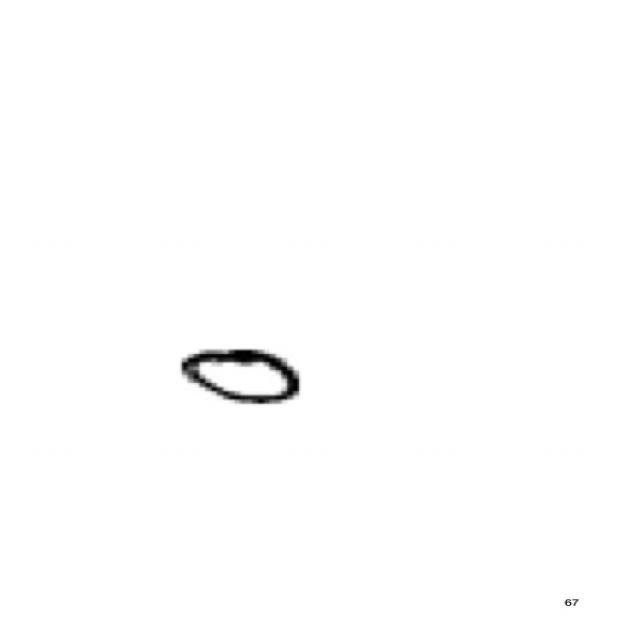5 -five-: (164, 335, 313, 416)
